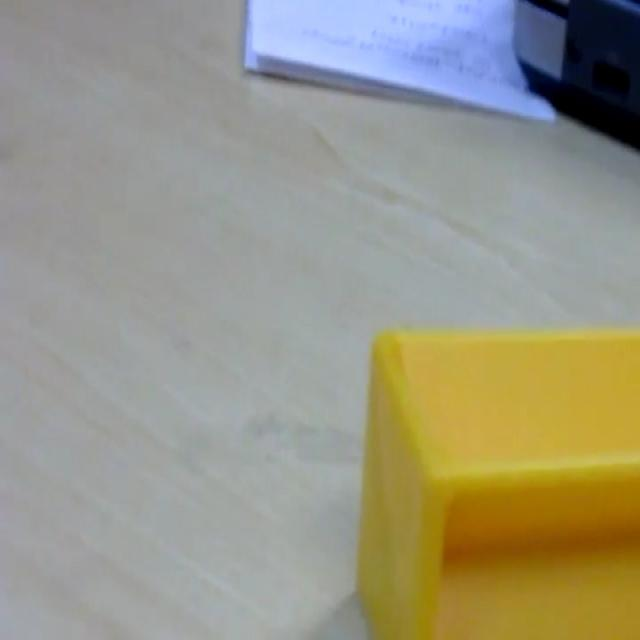yellow_block: (356, 324, 638, 636)
